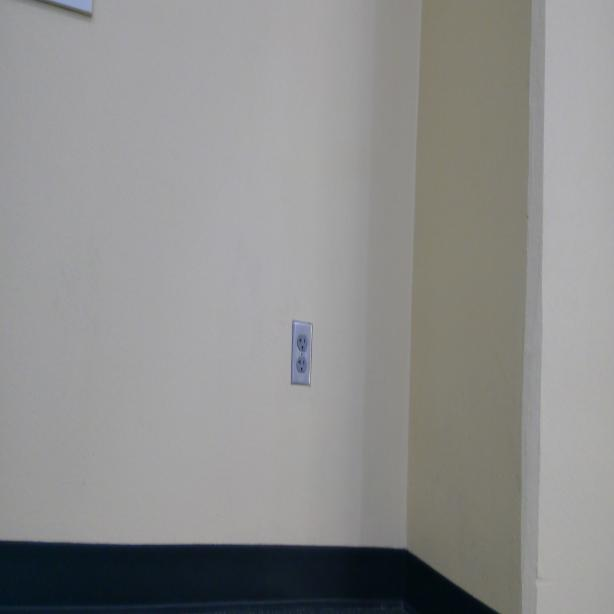typeb: (296, 358, 308, 373), (297, 336, 307, 351)
